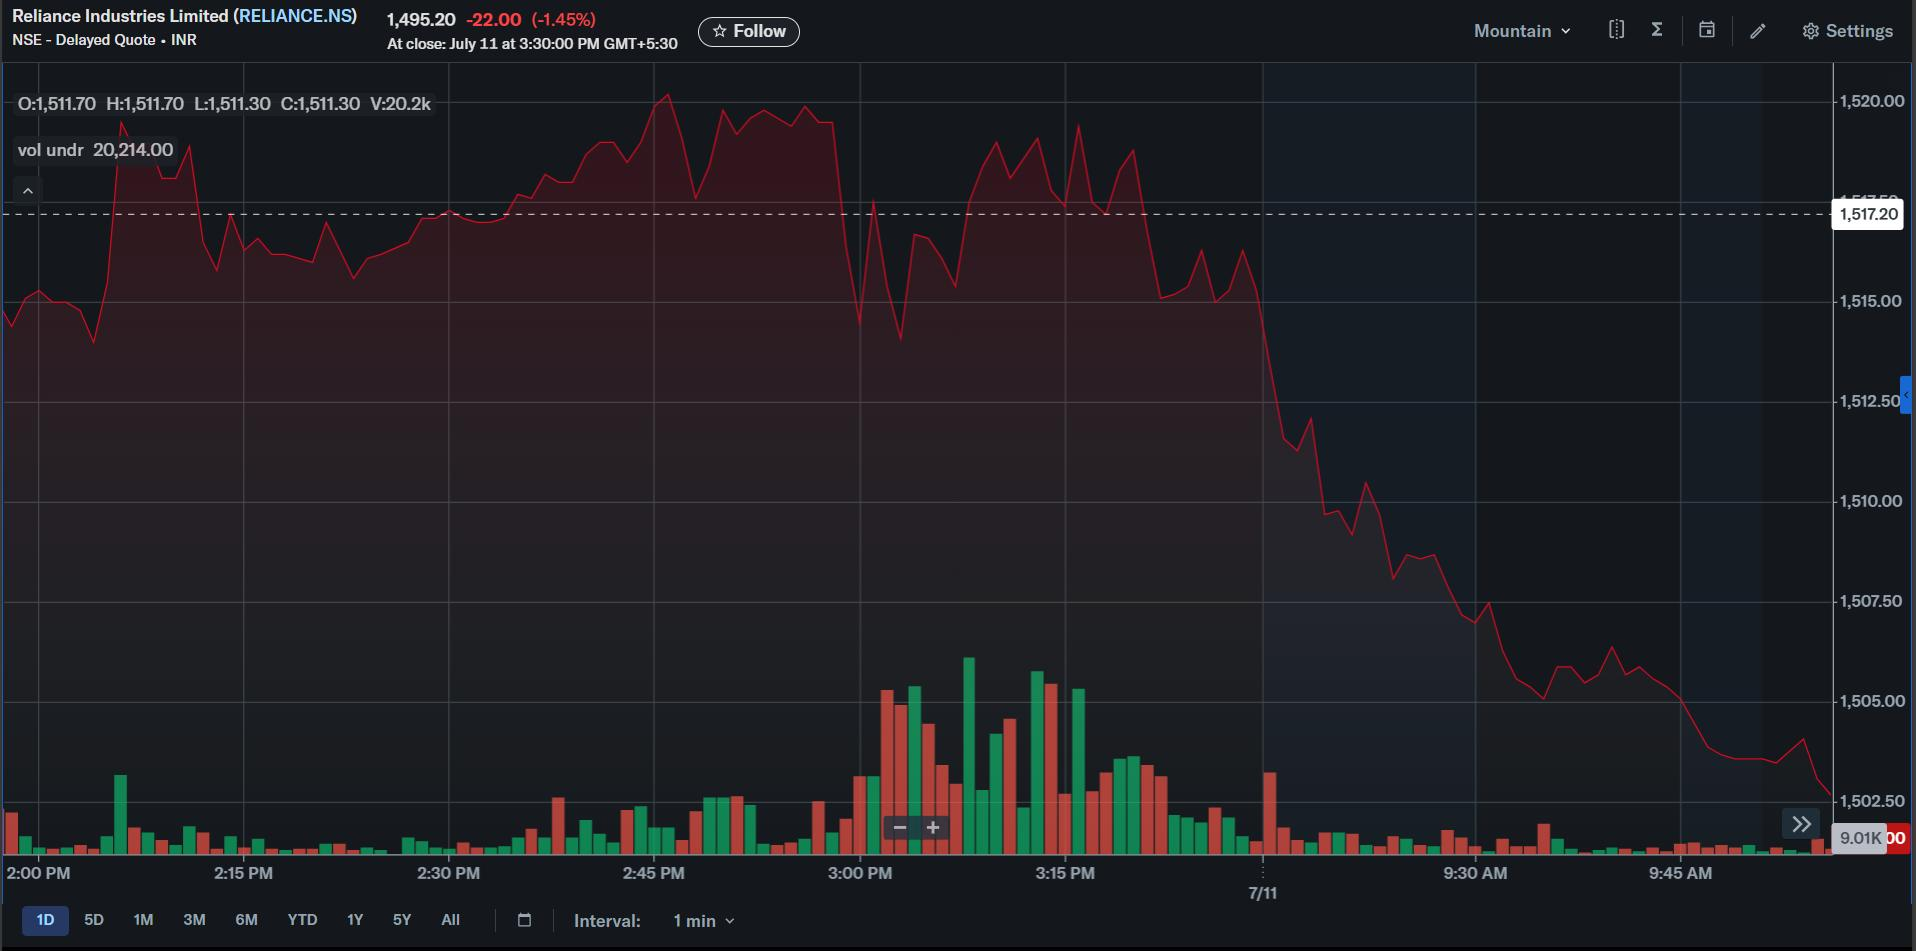Downtrend: (1121, 134, 1724, 770)
Sideways: (1171, 242, 1262, 301), (718, 104, 833, 142), (6, 282, 87, 334)
Uptrend: (949, 132, 1001, 293)
